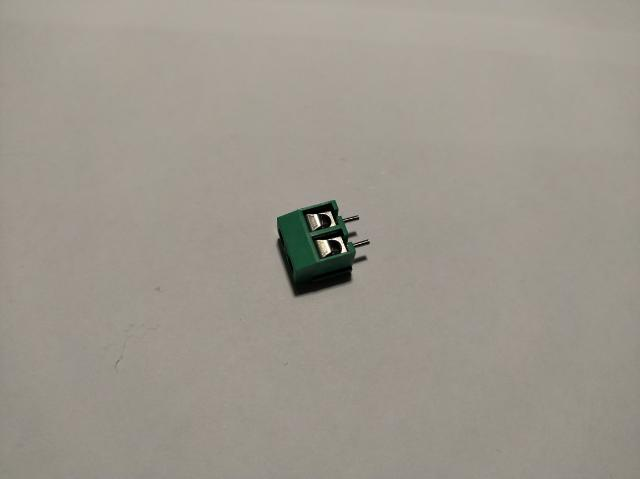terminal_block: (278, 200, 370, 284)
